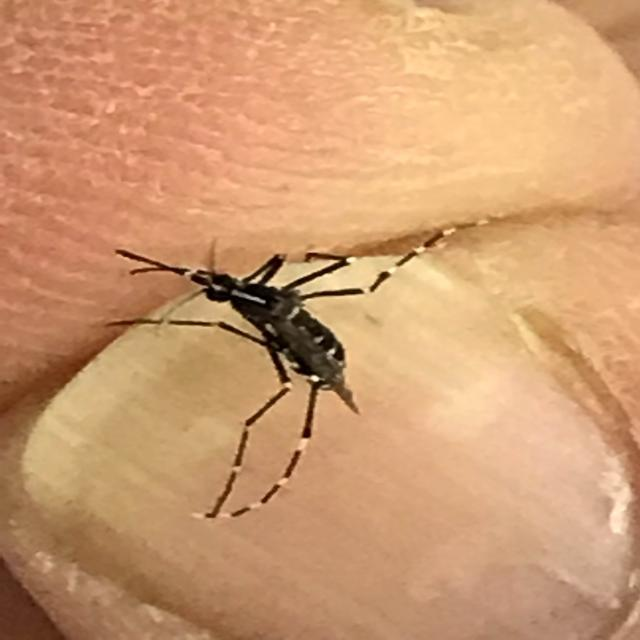albopictus: (99, 196, 508, 534)
